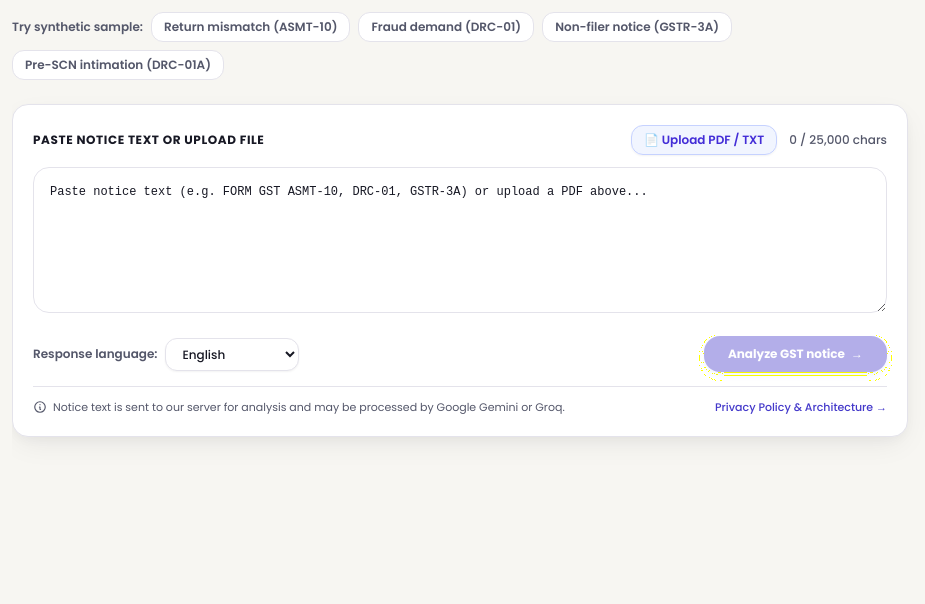
NoticeAnalyzer Component › loads sample notice text when sample button is clicked
Click the button with test id "sample-asmt10-btn" at point(251, 27), box x1=151 y1=12 x2=350 y2=42
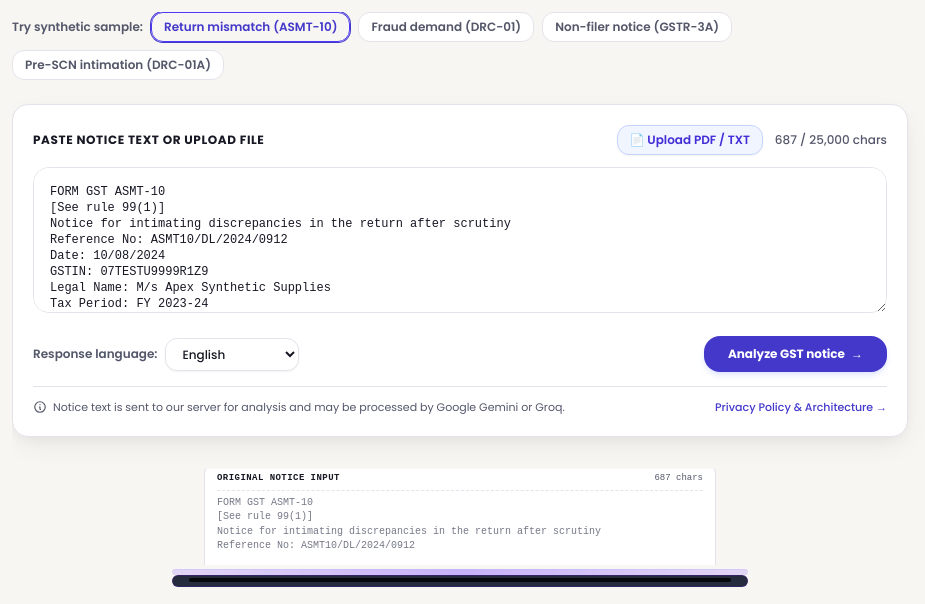
Now the button with test id "analyze-notice-btn" is enabled, box x1=704 y1=336 x2=887 y2=372
